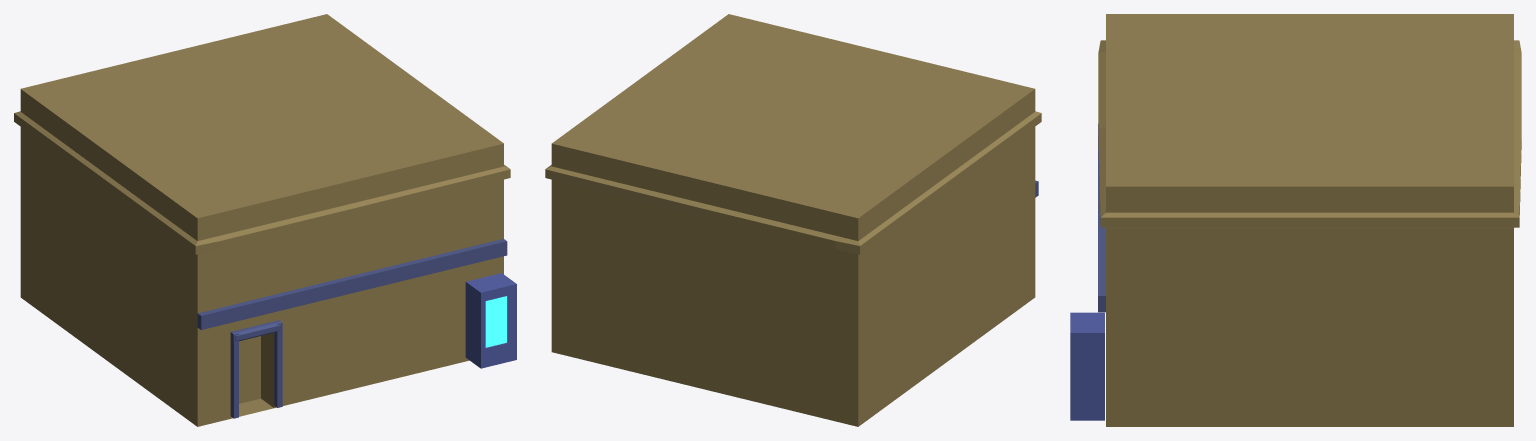
3 views of the same model, side by side, from view 1: azimuth 30°, elevation 25°; view 2: azimuth 150°, elevation 25°; view 3: azimuth 270°, elevation 25° (orthographic). The views are drawn at different scales.
Visible parts, largest first — view 1: Cube, Cube.006, Cube.007, Cube.008, Cube.004, Cube.005, Cube.002; view 2: Cube; view 3: Cube, Cube.007, Cube.006.
Part boxes in pixels (<box>): Cube: <box>14,14,510,426</box>; Cube.006: <box>197,239,507,329</box>; Cube.007: <box>465,273,516,368</box>; Cube.008: <box>485,296,507,347</box>; Cube.004: <box>230,333,238,418</box>; Cube.005: <box>274,322,282,407</box>; Cube.002: <box>230,320,281,342</box>; Cube: <box>545,14,1041,426</box>; Cube: <box>1098,14,1521,426</box>; Cube.007: <box>1070,312,1104,420</box>; Cube.006: <box>1098,124,1105,312</box>.
Size of what is drawn, in the model's own units: 12.8 by 8.1 by 13.79.
